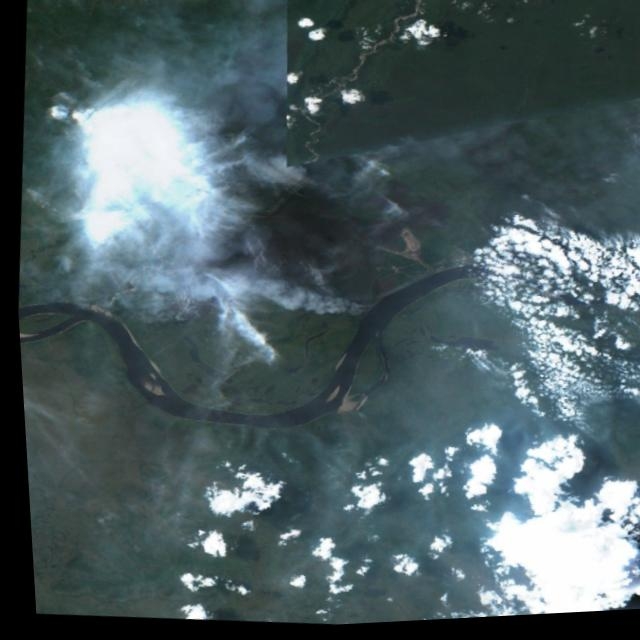fire: (238, 138, 337, 210), (321, 293, 382, 332)
